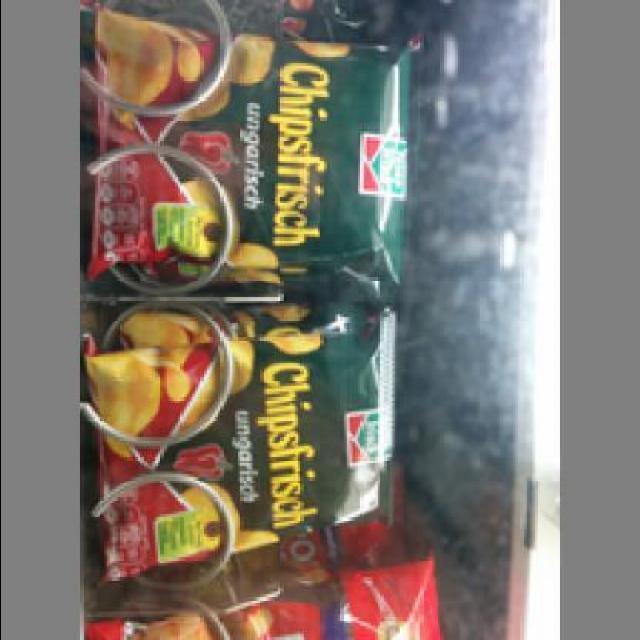Chips: (91, 11, 420, 280), (86, 332, 403, 588)
